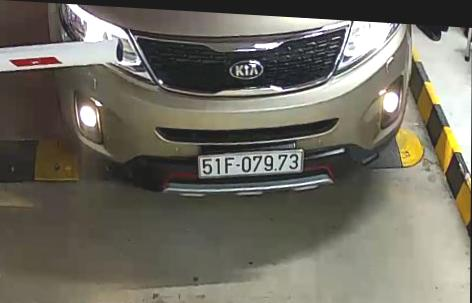License_Plate: (191, 145, 304, 182)
